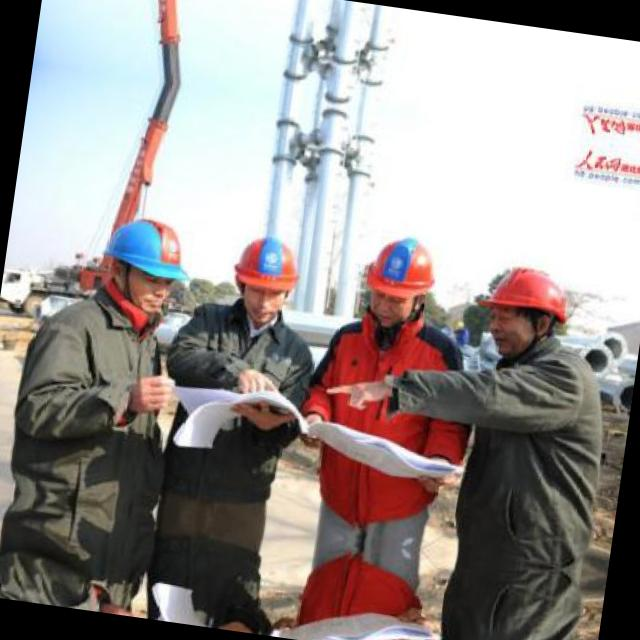helmet: (466, 255, 580, 364), (92, 208, 194, 320), (358, 226, 446, 334), (219, 222, 307, 326)
